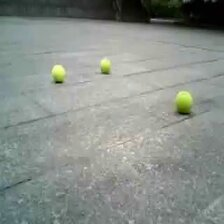tennis: (174, 91, 194, 113), (51, 65, 64, 81), (99, 58, 110, 73)
